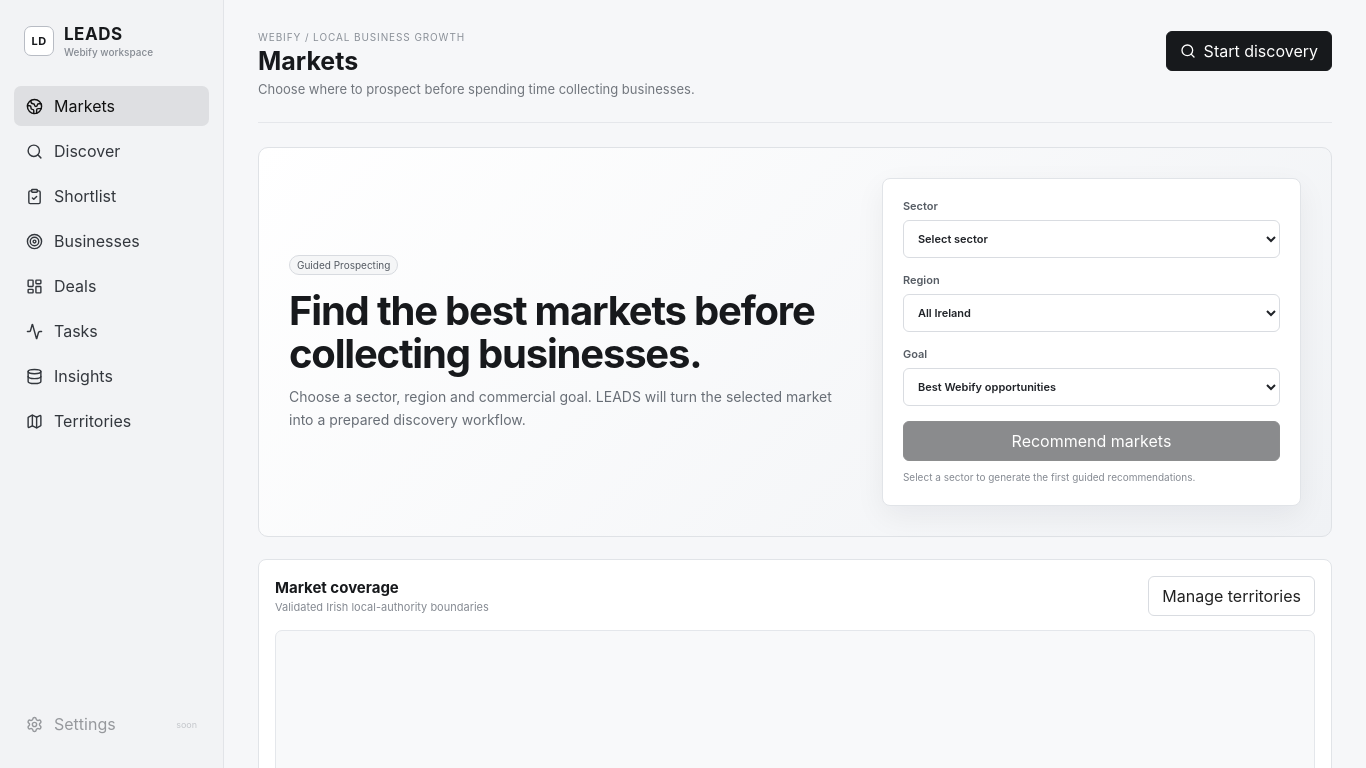
Test: App › previews a canonical prepared query checklist
Click the button "Discover" at (112, 151), box [14, 131, 209, 171]
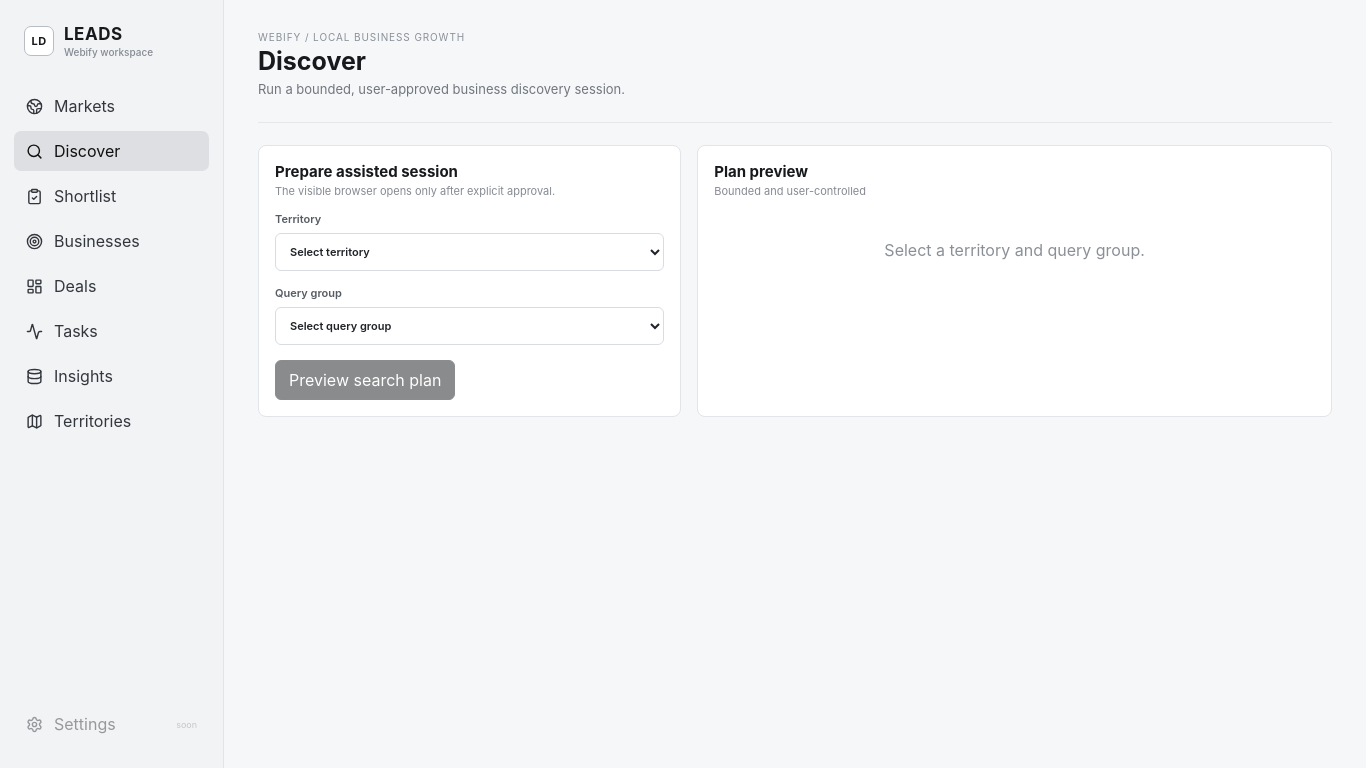
Select "Galway City" in the dropdown labelled "Territory" at (470, 252), box [275, 233, 664, 271]
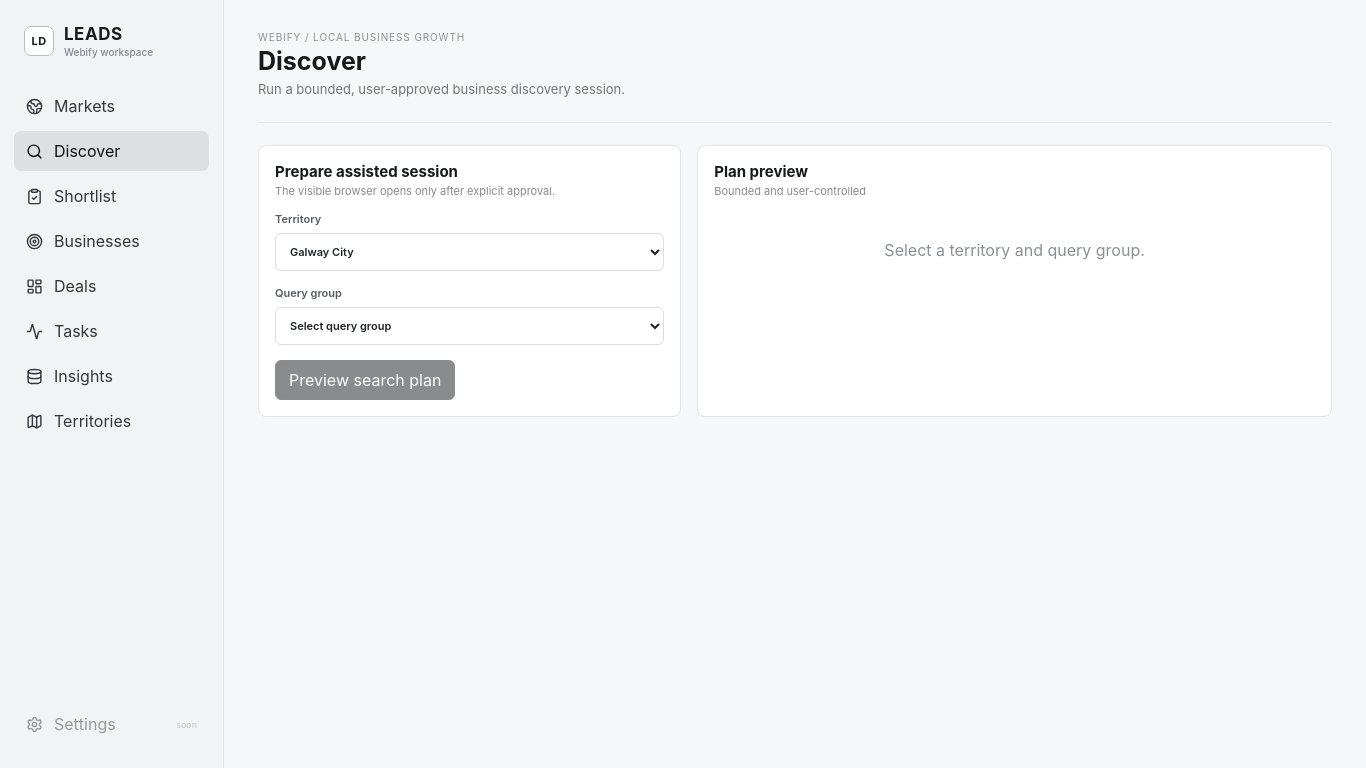
Select "Accountancy" in the dropdown labelled "Query group" at (470, 326), box [275, 307, 664, 345]
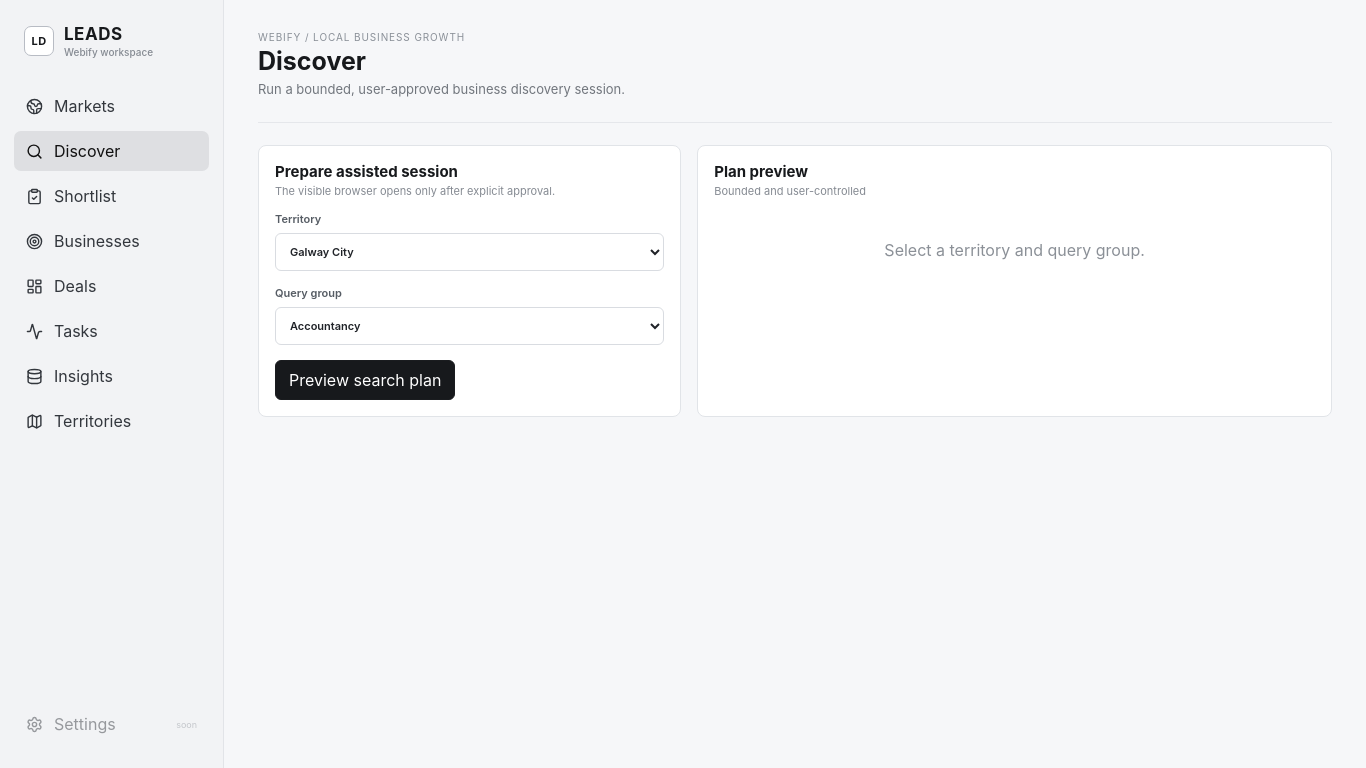
Check: the button "Preview search plan" is enabled
Click the button "Preview search plan" at (365, 380), box [275, 360, 455, 400]
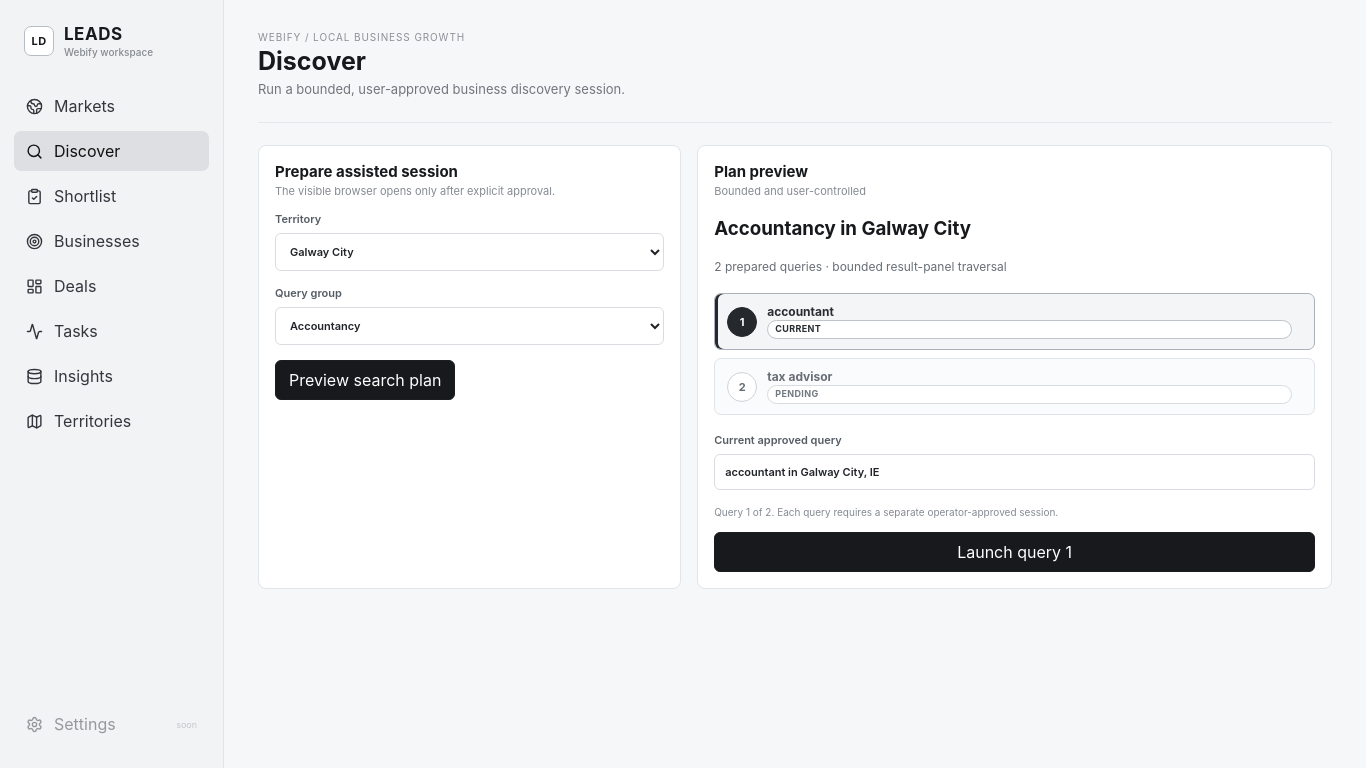
Check: the heading "Accountancy in Galway City" is shown, box [714, 217, 971, 240]
Check: the button "Launch query 1" is shown, box [714, 532, 1315, 572]
Check: the field labelled "Current approved query" holds "accountant in Galway City, IE", box [714, 454, 1315, 490]
